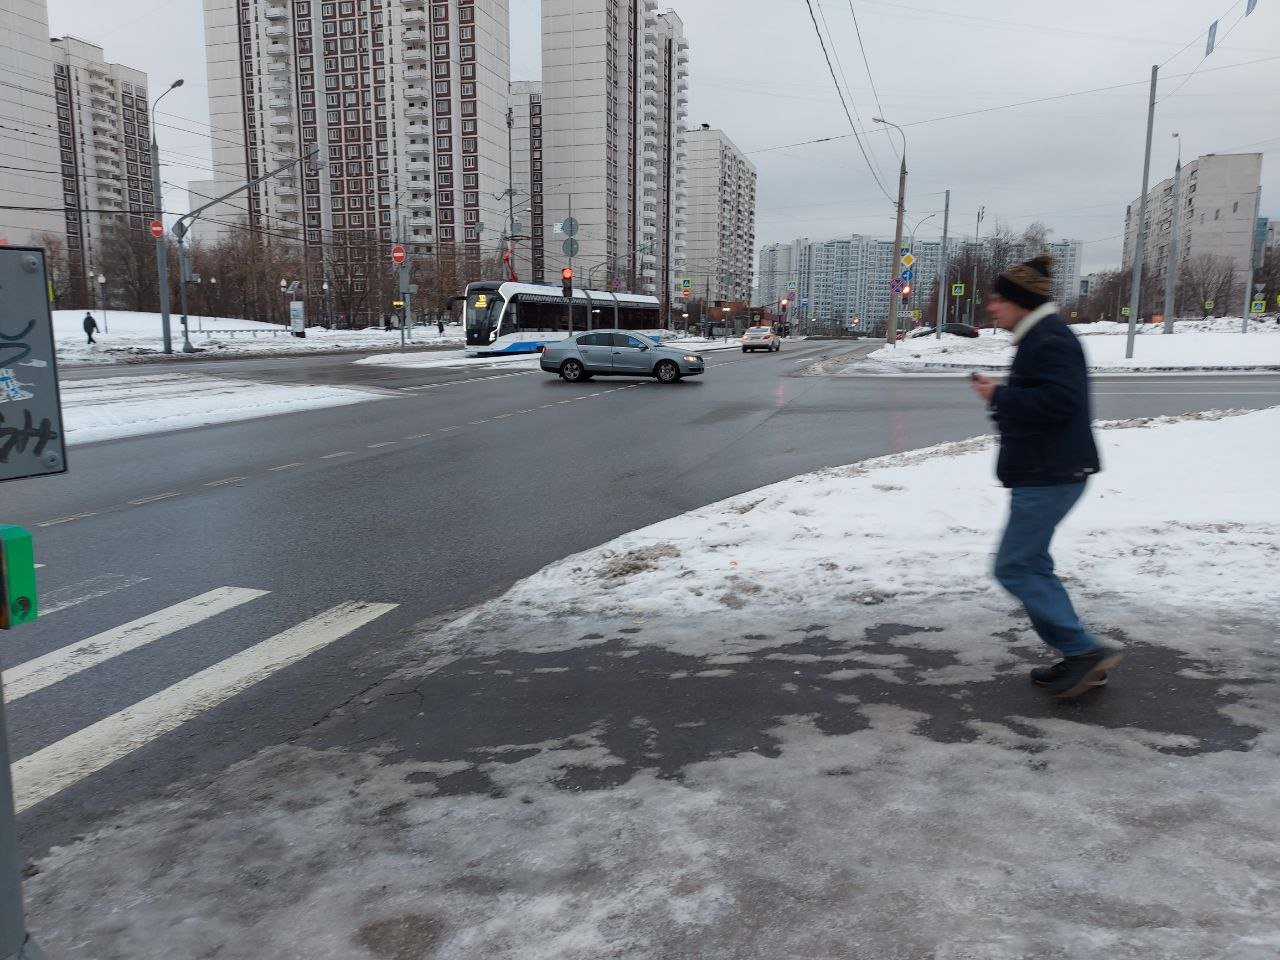sombie: (929, 243, 1156, 717)
